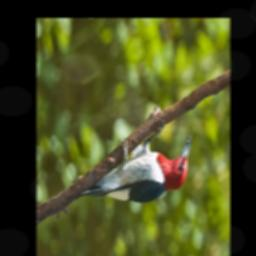Woodpecker: (70, 100, 200, 246)
